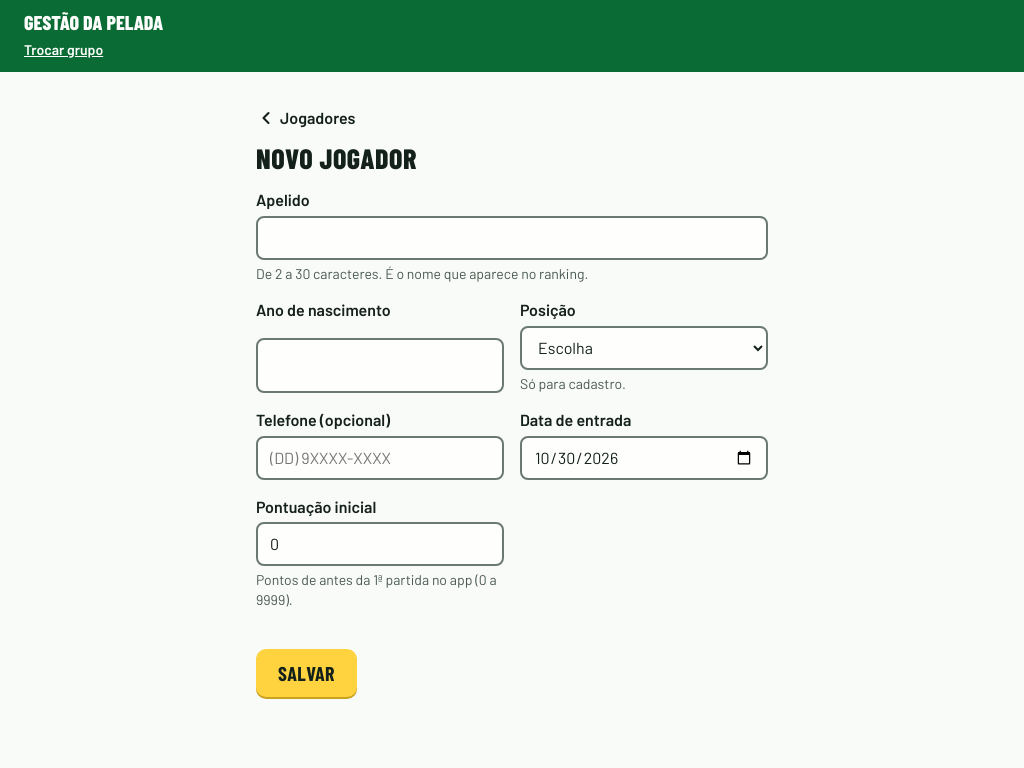
Test: NovoJogador: vazio (t16 novo) › o telefone ganha a máscara enquanto se digita (GEL-39)
This screenshot has width=1024, height=768.
Step 1. Type "11987654321" into the field labelled "Telefone (opcional)" → (380, 458), box [256,436,504,480]
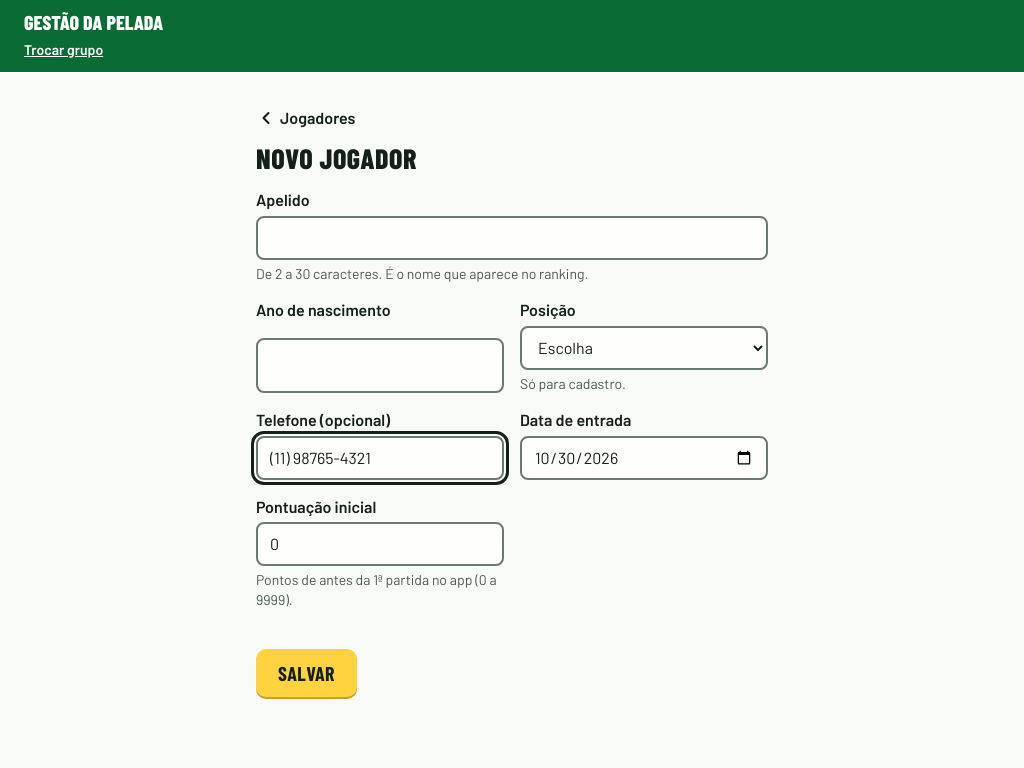
expect the field labelled "Telefone (opcional)" holds "(11) 98765-4321": met, box [256,436,504,480]
